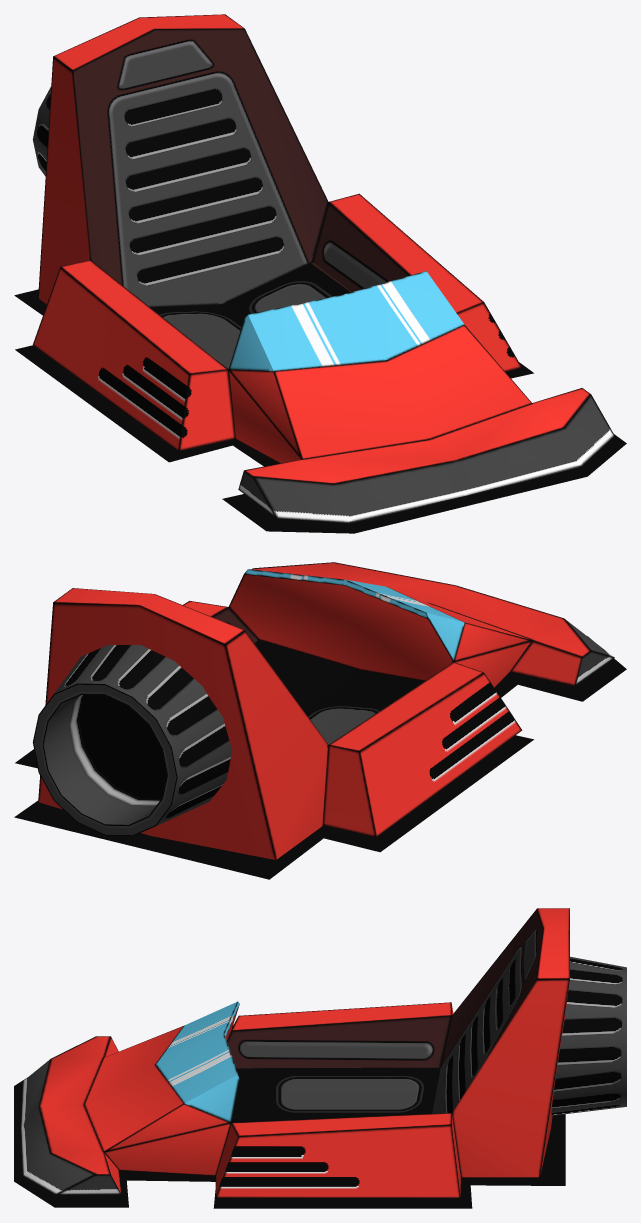
The model's file is car.glb.
3 views of the same model, one above another, from view 1: azimuth 30°, elevation 25°; view 2: azimuth 150°, elevation 25°; view 3: azimuth 270°, elevation 25° (orthographic). The views are drawn at different scales.
Visible parts, largest first — view 1: car, car_rimlight, exhaust; view 2: car, exhaust, car_rimlight; view 3: car, exhaust, car_rimlight.
Part boxes in pixels (bbox=[...]): car: bbox=[33, 14, 614, 523]; car_rimlight: bbox=[14, 289, 626, 533]; exhaust: bbox=[32, 86, 51, 176]; car: bbox=[33, 562, 614, 859]; exhaust: bbox=[32, 644, 231, 836]; car_rimlight: bbox=[14, 636, 626, 879]; car: bbox=[21, 908, 569, 1197]; exhaust: bbox=[551, 956, 626, 1115]; car_rimlight: bbox=[14, 1077, 565, 1208].
Size of what is drawn, in the model's own units: 0.5445 by 0.3485 by 0.9434.
2 materials, 1 textured.
